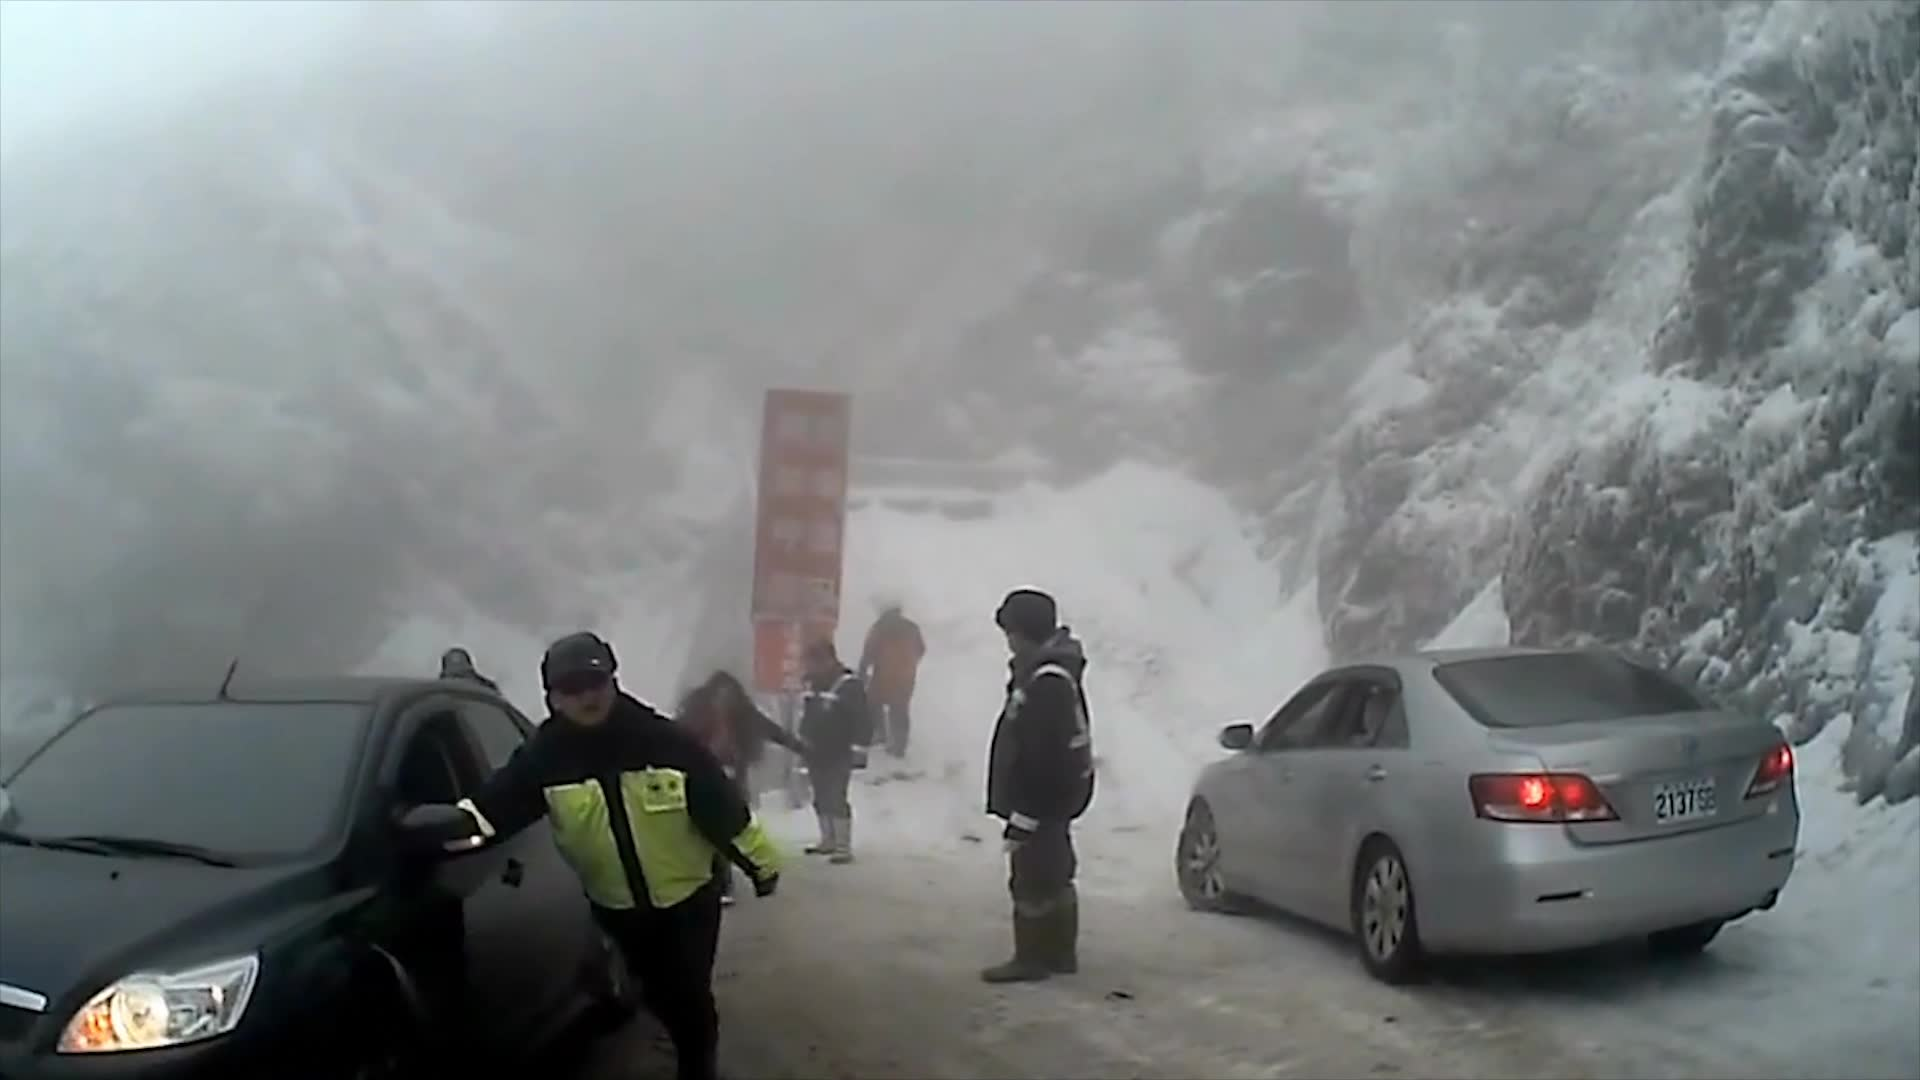pedestrian: (421, 636, 785, 1080), (960, 585, 1091, 983), (671, 672, 818, 912), (791, 636, 868, 862), (850, 586, 923, 759)
vehicle: (0, 673, 664, 1080), (1162, 639, 1796, 982)
